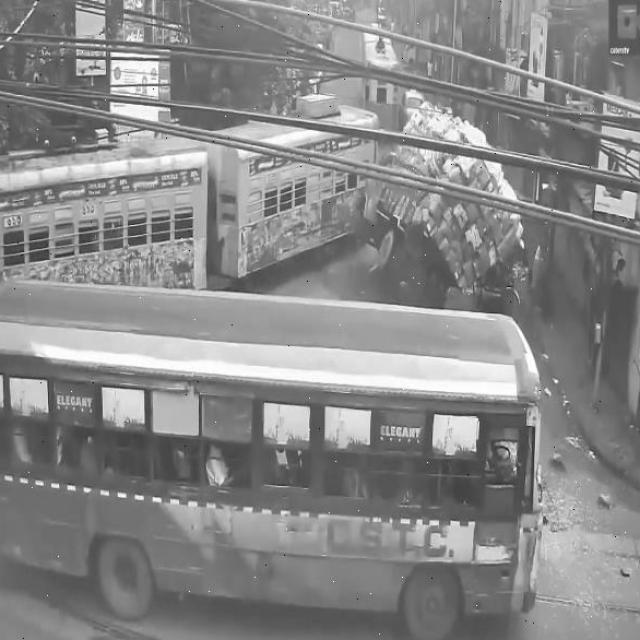accident: (339, 102, 525, 310)
